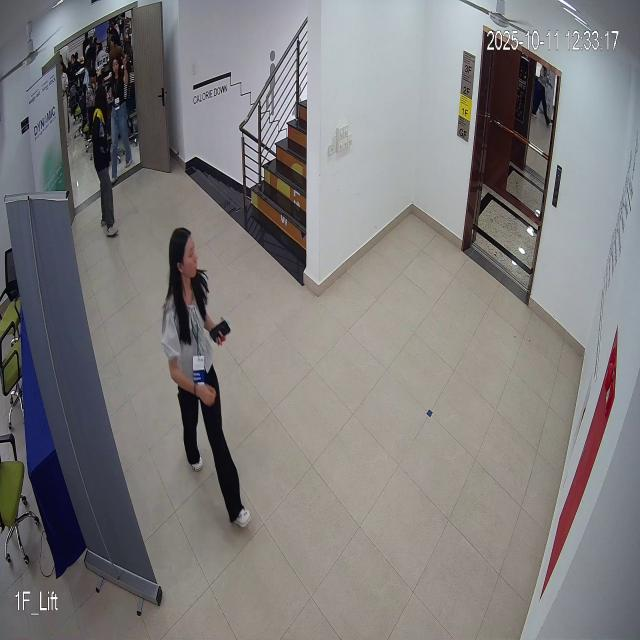face: (166, 218, 202, 285)
